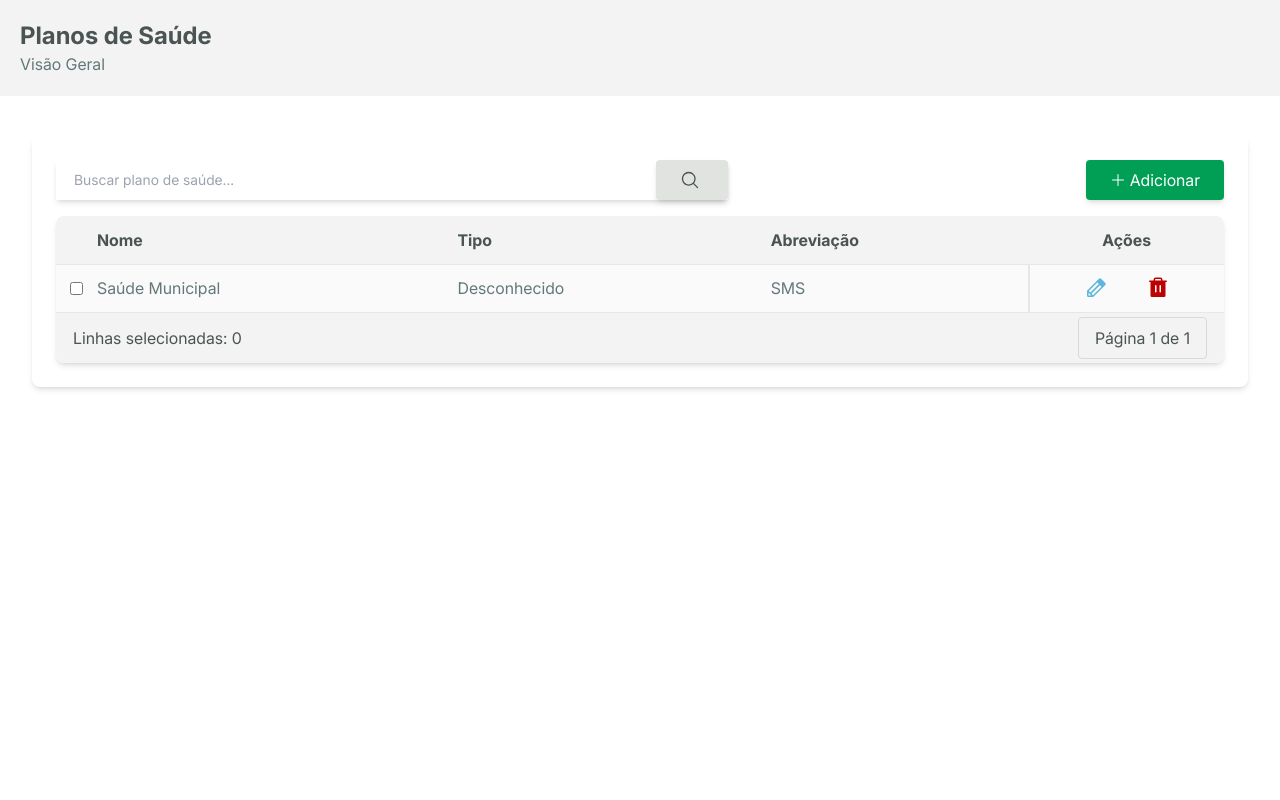
Test case: páginas CRUD assistenciais › blocks a duplicate health plan name before sending it to the API
Expected: the text "Saúde Municipal" is shown, [96,264,456,312]
Click the button "Adicionar": (1155, 180) [1086,160,1224,200]
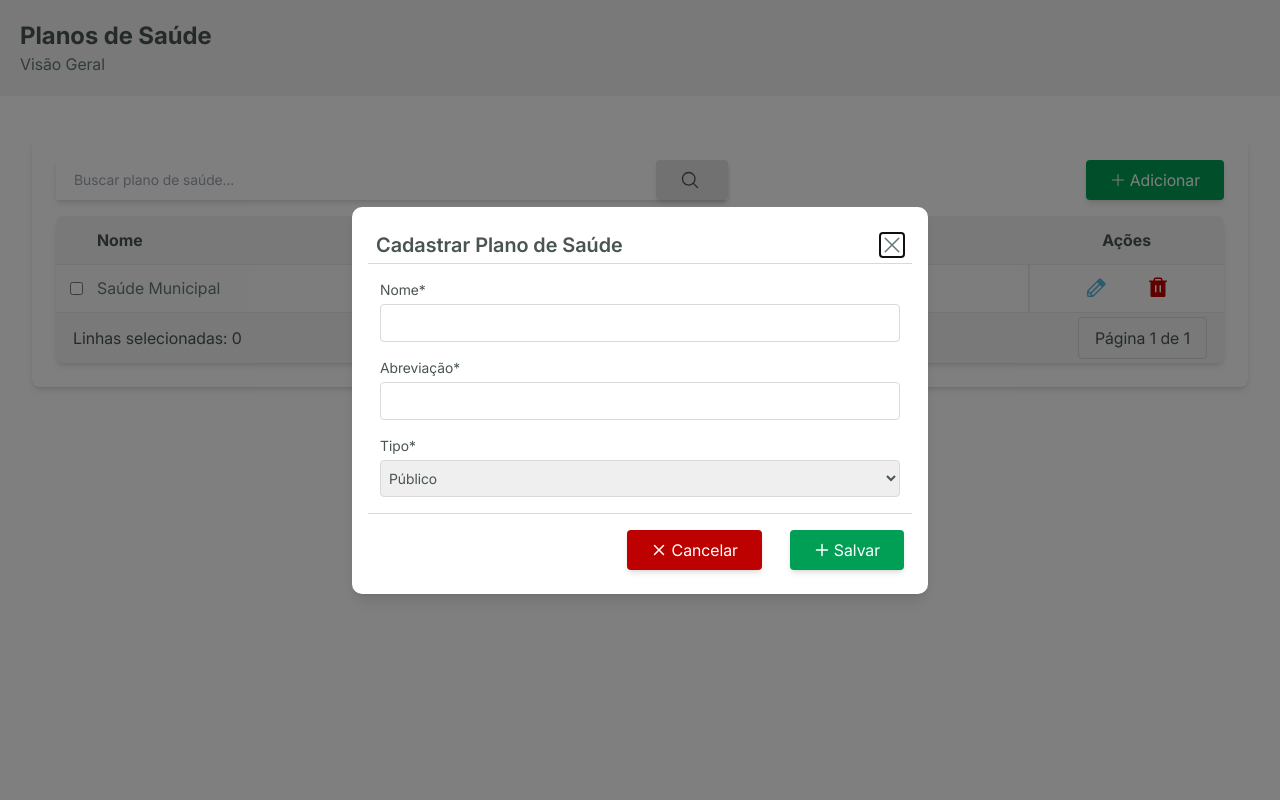
In the field named "name": (640, 322) [380,304,900,342], type "Saúde Municipal"
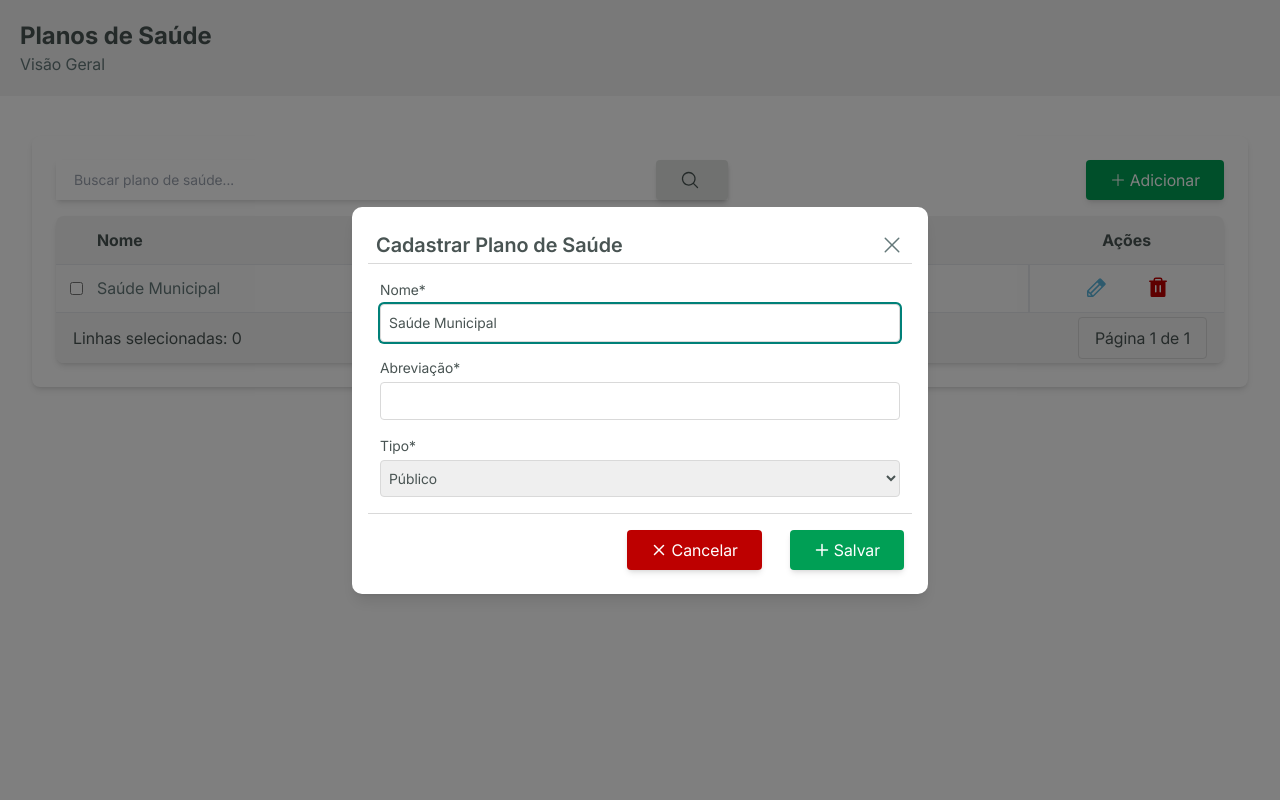
In the field named "abbreviation": (640, 400) [380,382,900,420], type "SM"
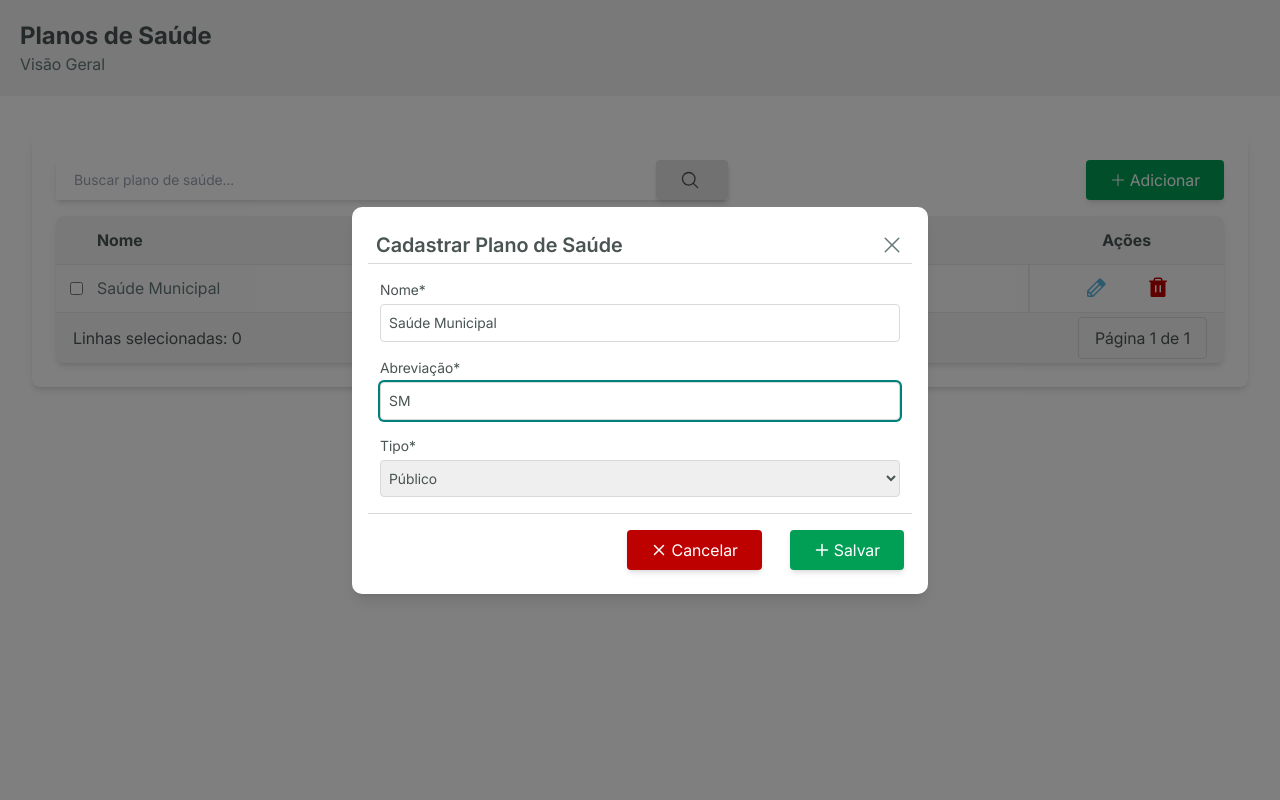
Click the button "Salvar": (847, 550) [790,530,904,570]
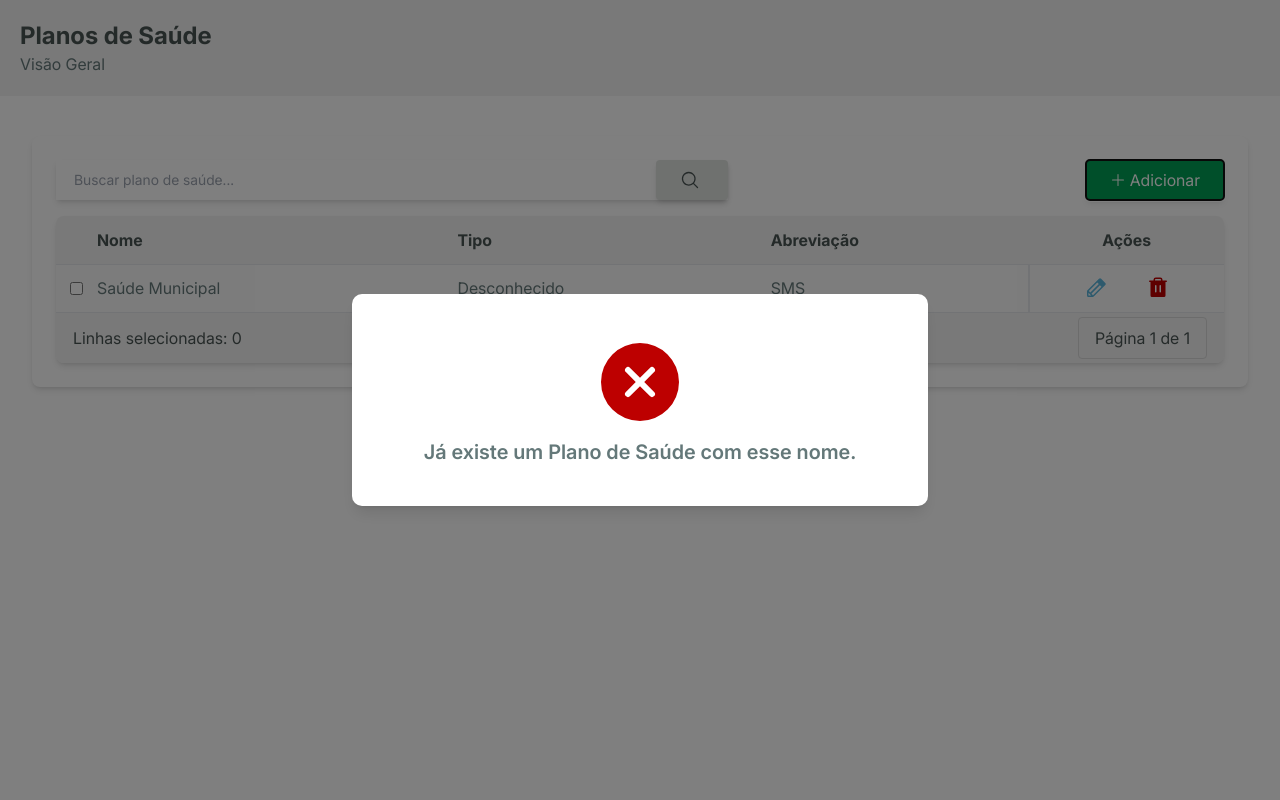
Expected: the text "Já existe um Plano de Saúde com esse nome." is shown, [424,438,856,466]
